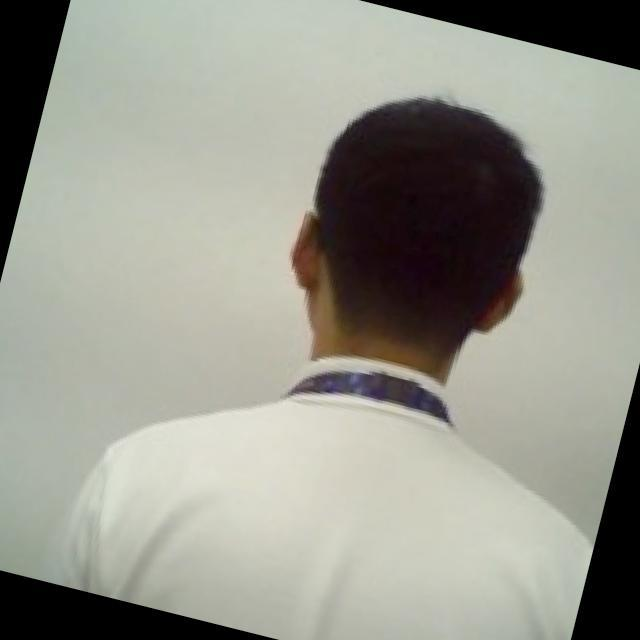no_gloves: (237, 51, 594, 398)
